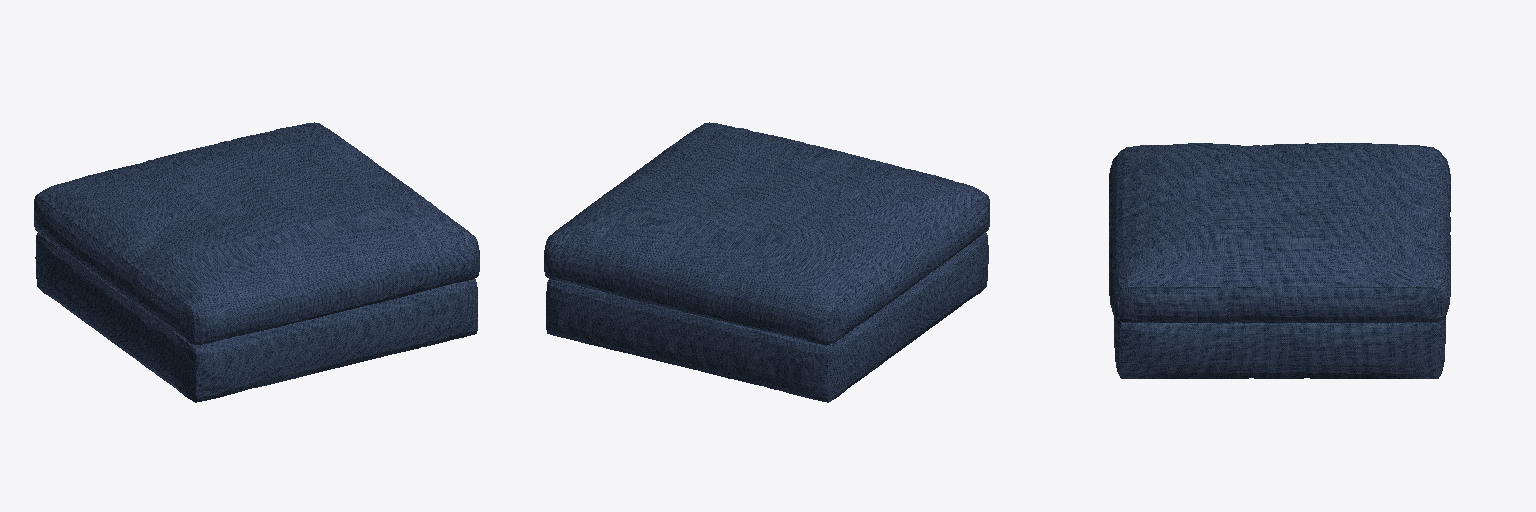
3 renders of one model, left to right at view 1: azimuth 30°, elevation 25°; view 2: azimuth 150°, elevation 25°; view 3: azimuth 270°, elevation 25°, orthographic.
Visible parts, largest first — view 1: 08_Poliform_Dune_pouf; view 2: 08_Poliform_Dune_pouf; view 3: 08_Poliform_Dune_pouf.
Part boxes in pixels (left/top/right/bottom): 08_Poliform_Dune_pouf: left=34, top=122, right=479, bottom=402; 08_Poliform_Dune_pouf: left=544, top=122, right=989, bottom=402; 08_Poliform_Dune_pouf: left=1109, top=143, right=1450, bottom=378.
Size of the model in its own units: 0.83 by 0.3336 by 0.8135.
Materials: 1 (1 with a texture image).